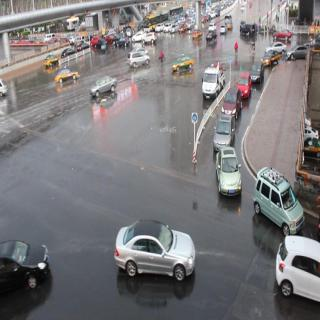Car: (114, 214, 197, 282), (255, 166, 305, 236), (276, 229, 320, 307), (1, 226, 53, 291), (213, 148, 244, 196), (214, 113, 239, 150), (201, 61, 226, 97), (88, 74, 120, 100), (169, 52, 196, 78), (222, 84, 242, 118), (127, 50, 150, 70), (54, 67, 78, 86), (236, 71, 252, 98), (287, 42, 308, 62), (262, 46, 280, 64), (40, 51, 59, 68), (272, 26, 294, 40), (250, 61, 263, 84), (190, 26, 204, 42), (94, 37, 108, 53), (62, 47, 76, 62), (116, 34, 130, 48), (206, 28, 218, 43), (142, 32, 156, 44)
